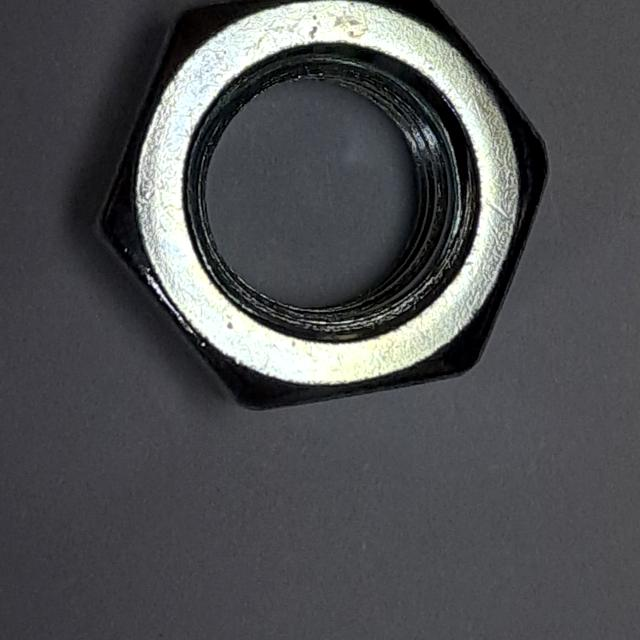Excellent: (75, 1, 561, 422)
